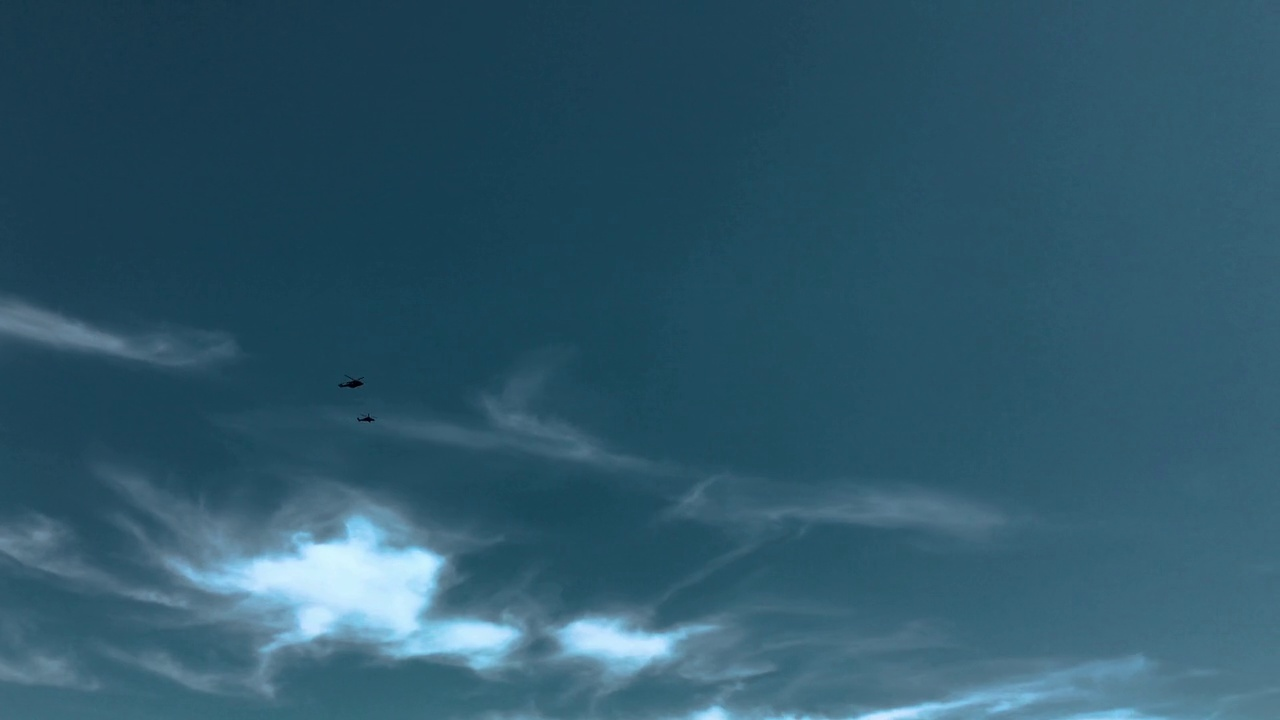heli: (337, 375, 364, 389), (356, 413, 376, 423)
